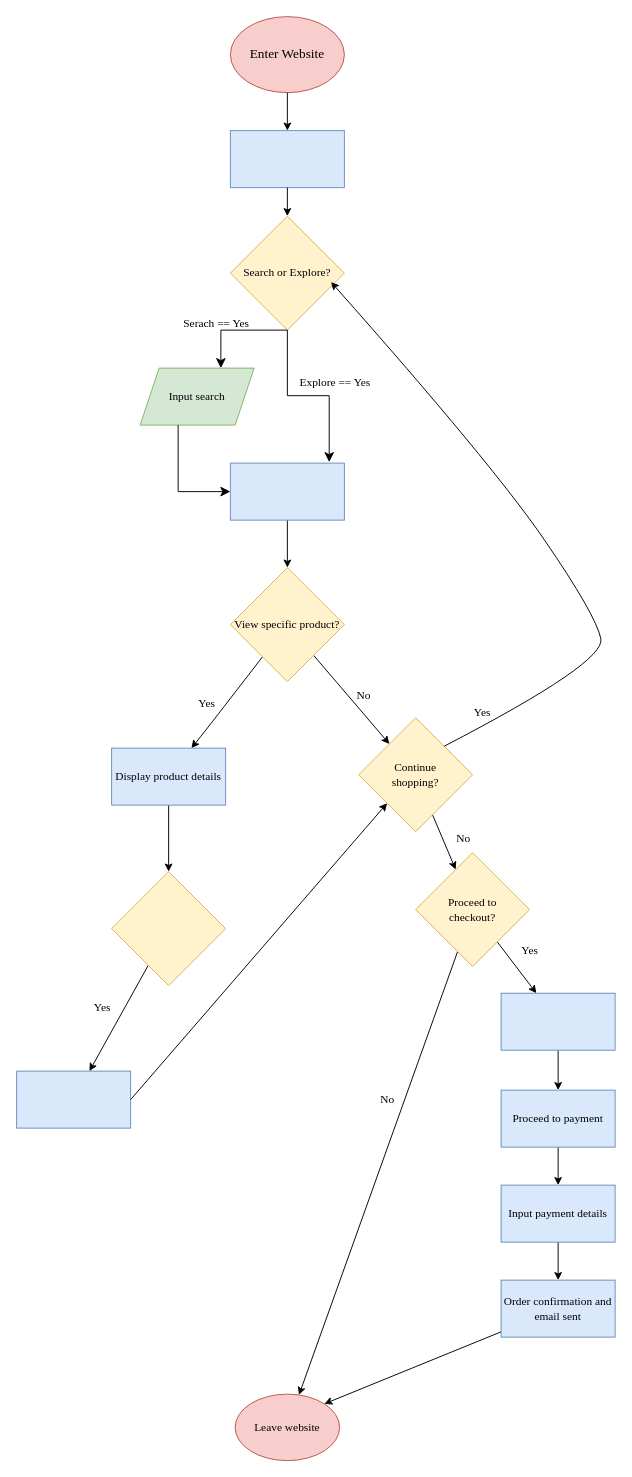
Image size: 632x1477. Some labels were removed from this diagram. Here are the shapes that lost their labels. From the top down, the centre of each, then its label:
At (x=286, y=159): "Display Homepage".
At (x=286, y=491): "Browse products".
At (x=168, y=928): "Add product to cart?".
At (x=557, y=1021): "View cart".
At (x=73, y=1099): "Show added to cart message".
